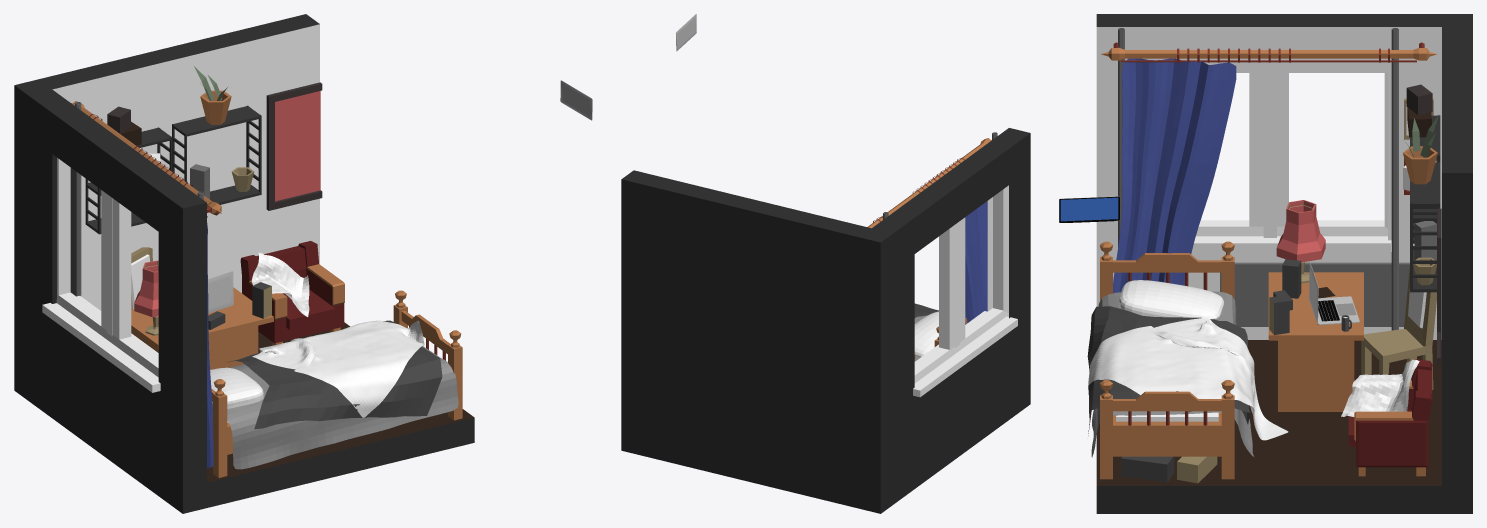
File: isometric_room_fin_3.glb
The picture shows the model from 3 angles, left to right: view 1: azimuth 30°, elevation 25°; view 2: azimuth 150°, elevation 25°; view 3: azimuth 270°, elevation 25°; orthographic projection. The views are drawn at different scales.
Visible parts, largest first — view 1: Cube_2, Cube_0, Plane.007_0, Cube.023_0, Cube.011_0, Cube.007_0, Cube.037_1, Cube.021_0, Cube.001_0, Cube_1, Cube.010_0, Cube.037_0 (+17 smaller); view 2: Cube_2, Cube.011_0, Cylinder.006_0, Cube.010_0, Cube.012_0, Cube.008_0, Cube_0, Cylinder.004_0; view 3: Cube_2, Cube_0, Cylinder.006_0, Cube_1, Plane.007_0, Cube.001_0, Cube.011_0, Cube.016_0, Cube.021_0, Cube.003_0, Cube.009_0, Cube.023_0 (+31 smaller).
Boxes of the visible parts, x1=… form: Cube_2: x1=14, y1=14, x2=474, y2=513; Cube_0: x1=52, y1=24, x2=319, y2=310; Plane.007_0: x1=252, y1=320, x2=424, y2=417; Cube.023_0: x1=228, y1=320, x2=442, y2=429; Cube.011_0: x1=56, y1=157, x2=158, y2=377; Cube.007_0: x1=227, y1=346, x2=458, y2=469; Cube.037_1: x1=275, y1=91, x2=320, y2=201; Cube.021_0: x1=240, y1=241, x2=344, y2=343; Cube.001_0: x1=131, y1=287, x2=273, y2=369; Cube_1: x1=207, y1=322, x2=474, y2=482; Cube.010_0: x1=42, y1=296, x2=160, y2=392; Cube.037_0: x1=266, y1=82, x2=322, y2=210; Cube_2: x1=621, y1=128, x2=1030, y2=513; Cube.011_0: x1=914, y1=185, x2=1008, y2=383; Cylinder.006_0: x1=965, y1=201, x2=987, y2=324; Cube.010_0: x1=913, y1=311, x2=1017, y2=397; Cube.012_0: x1=914, y1=311, x2=938, y2=356; Cube.008_0: x1=954, y1=221, x2=959, y2=347; Cube_0: x1=987, y1=197, x2=1008, y2=316; Cylinder.004_0: x1=867, y1=138, x2=991, y2=228; Cube_2: x1=1096, y1=14, x2=1472, y2=513; Cube_0: x1=1096, y1=27, x2=1441, y2=339; Cylinder.006_0: x1=1113, y1=58, x2=1236, y2=293; Cube_1: x1=1096, y1=340, x2=1441, y2=485; Plane.007_0: x1=1088, y1=318, x2=1288, y2=440; Cube.001_0: x1=1268, y1=272, x2=1363, y2=411; Cube.011_0: x1=1196, y1=73, x2=1387, y2=236; Cube.016_0: x1=1220, y1=262, x2=1409, y2=326; Cube.021_0: x1=1348, y1=359, x2=1432, y2=467; Cube.003_0: x1=1113, y1=413, x2=1221, y2=456; Cube.009_0: x1=1113, y1=253, x2=1221, y2=411; Cube.023_0: x1=1087, y1=306, x2=1250, y2=435.
Bounding box in the file's own units: 3 × 2.37 × 2.4.
